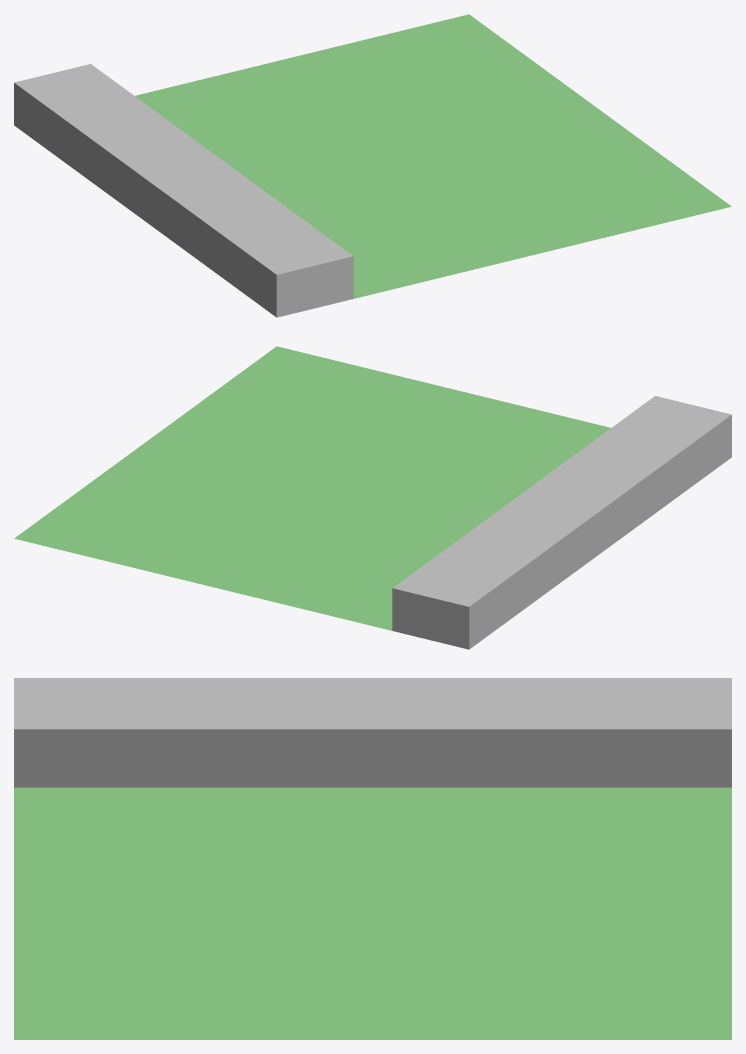
The model's file is curb.fbx.
3 views of the same model, one above another, from view 1: azimuth 30°, elevation 25°; view 2: azimuth 150°, elevation 25°; view 3: azimuth 270°, elevation 25° (orthographic). The views are drawn at different scales.
Parts seen in each view (by area): view 1: Curb; view 2: Curb; view 3: Curb.
Boxes of the visible parts, box(x1,y1,x2,y2) form: Curb: box(14, 14, 731, 317); Curb: box(14, 346, 731, 649); Curb: box(14, 678, 731, 1039).
Size of the model in its own units: 150 by 13.47 by 150.
